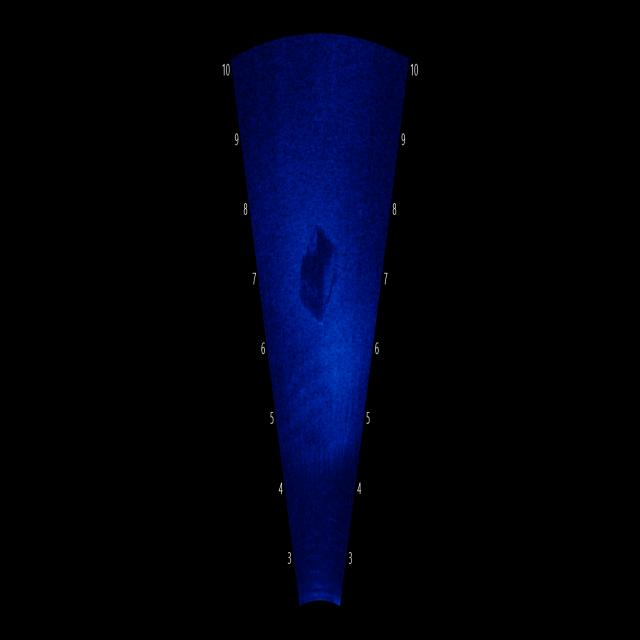square: (298, 206, 347, 351)
